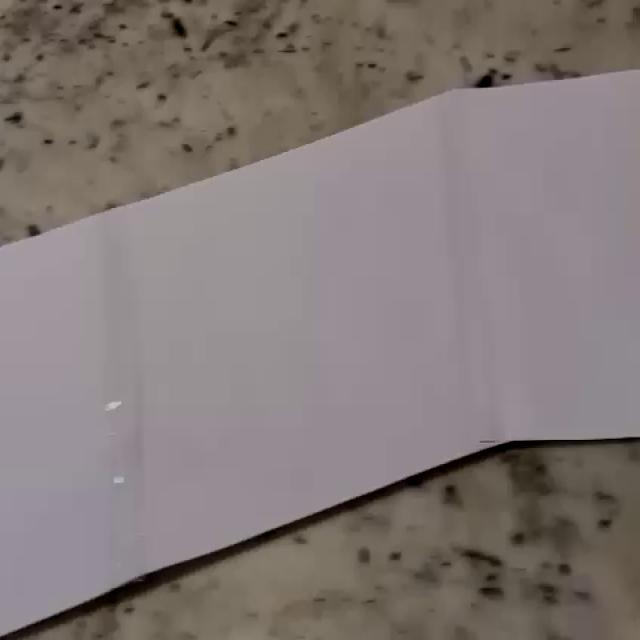road: (0, 71, 640, 634)
